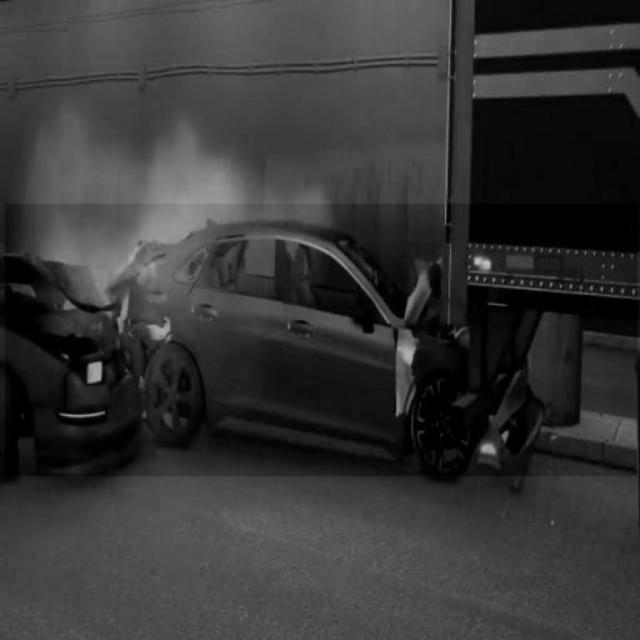accident: (5, 204, 639, 476)
